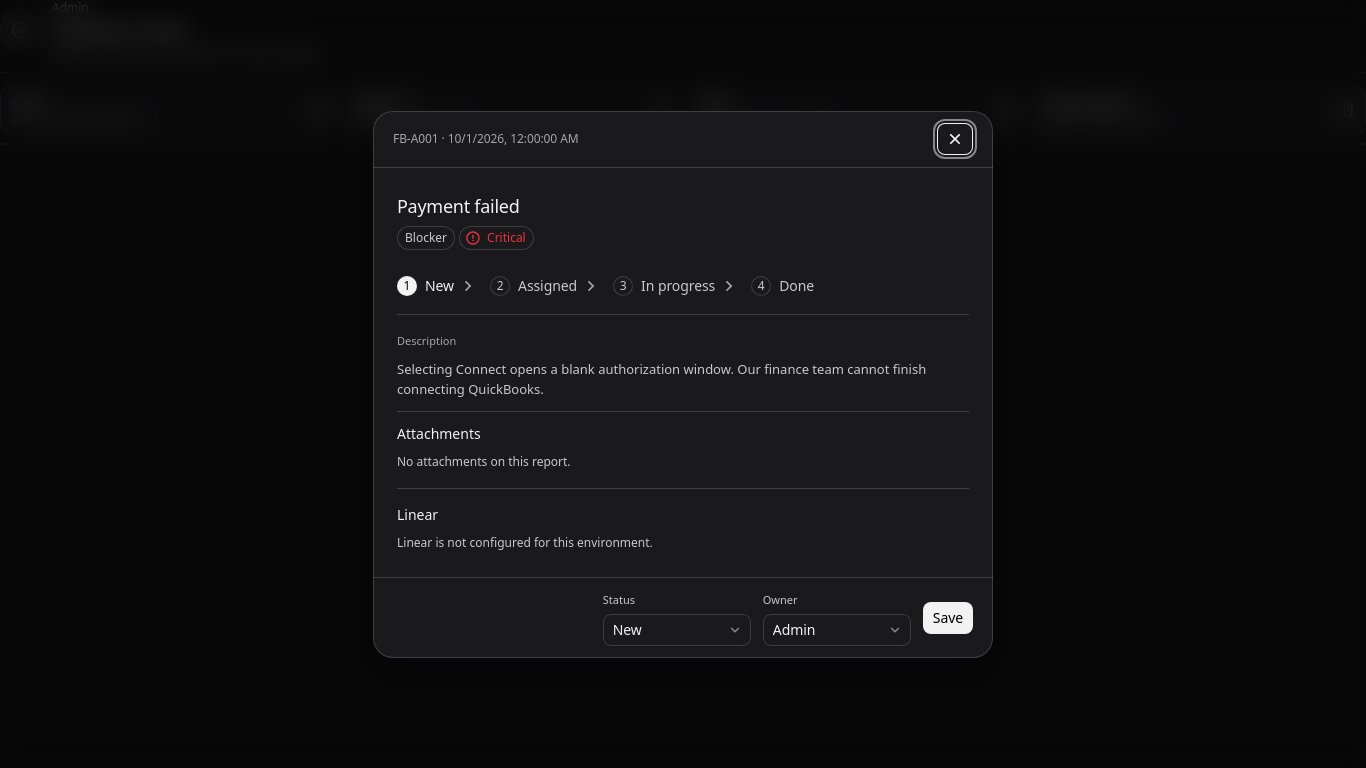
Test case: keeps the report open with an error when saving fails
The image size is (1366, 768).
Click the button "Save".
click(948, 618)  # box [923, 602, 973, 634]
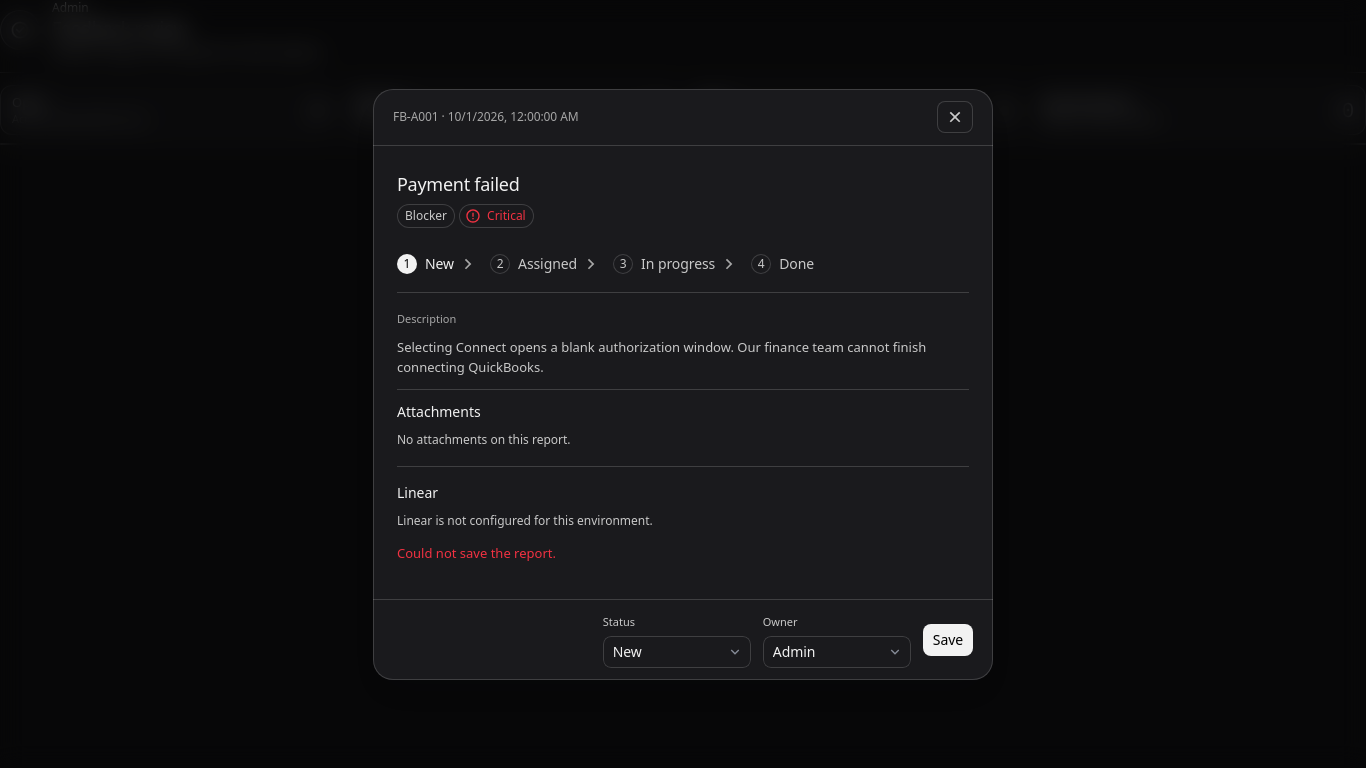
Expected: the dialog is shown, [373, 88, 993, 680]
Result: the message reads "Could not save the report." at [397, 544, 556, 562]
